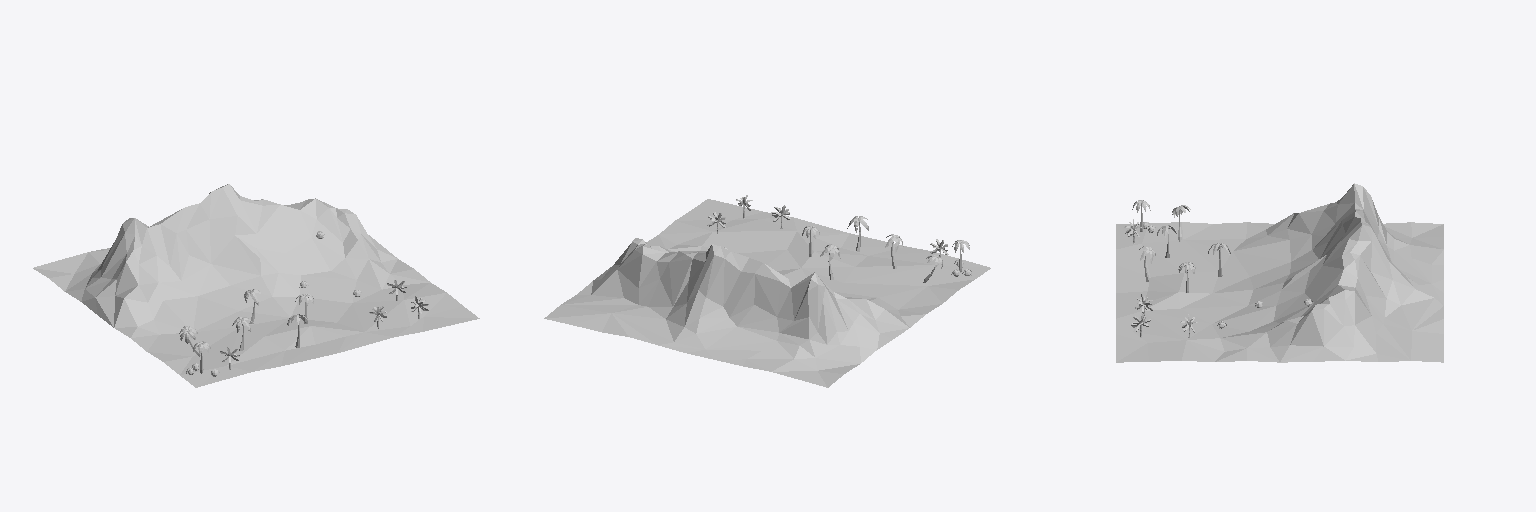
File: normal island.obj
The picture shows the model from 3 angles: view 1: azimuth 30°, elevation 25°; view 2: azimuth 150°, elevation 25°; view 3: azimuth 270°, elevation 25°; orthographic projection.
Visible parts, largest first — view 1: terrain-mountain-range_1; view 2: terrain-mountain-range_1; view 3: terrain-mountain-range_1.
Boxes of the visible parts, box(x1,y1,x2,y2) form: terrain-mountain-range_1: box(33, 184, 479, 387); terrain-mountain-range_1: box(544, 199, 990, 387); terrain-mountain-range_1: box(1116, 183, 1443, 362).
Bounding box in the file's own units: 60 × 15.56 × 60.